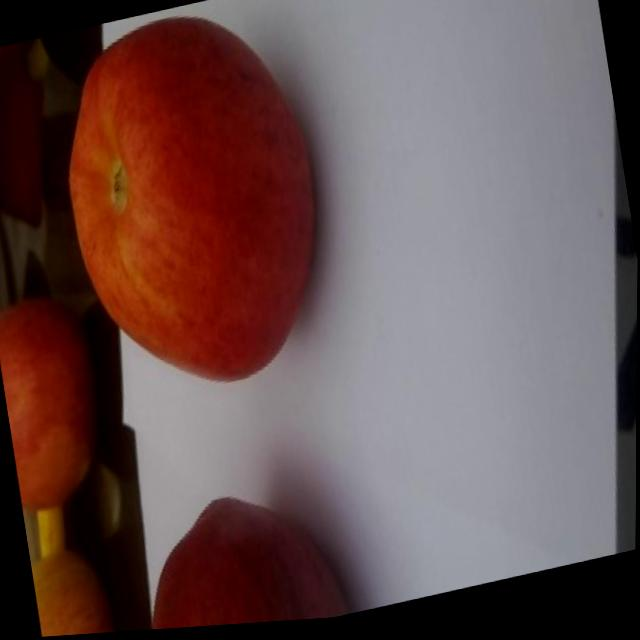Apple: (44, 0, 345, 417), (128, 477, 354, 633), (0, 286, 115, 518), (31, 542, 124, 638)
